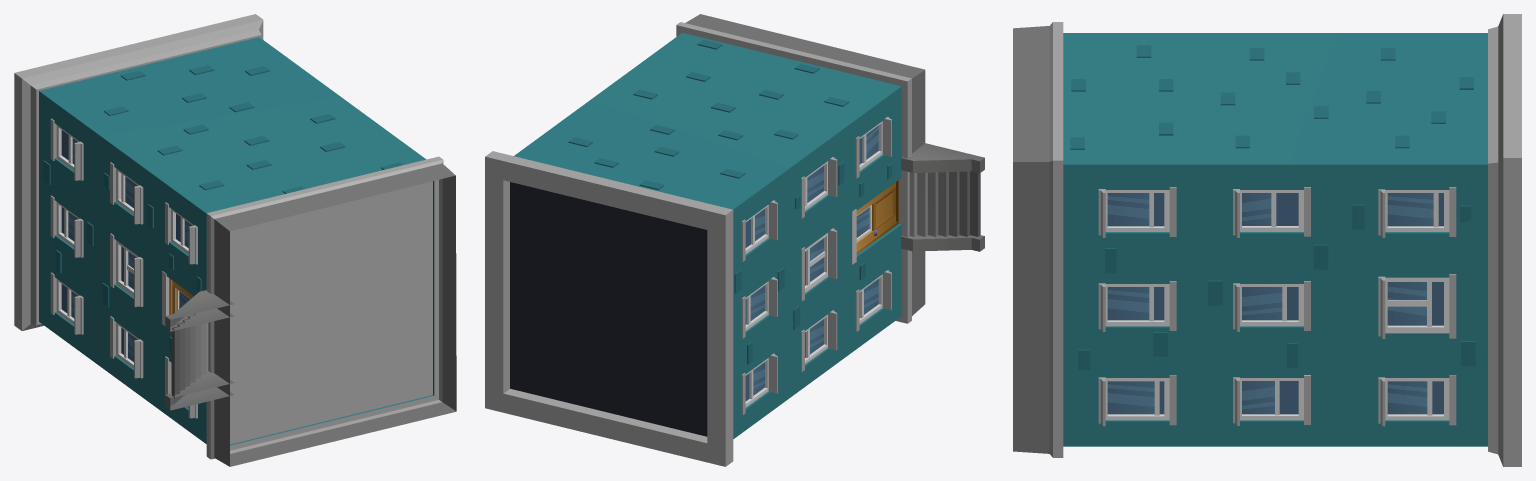
Rendered from Building_2_4_I.fbx.
3 renders of one model, left to right at view 1: azimuth 30°, elevation 25°; view 2: azimuth 150°, elevation 25°; view 3: azimuth 270°, elevation 25°, orthographic. The views are drawn at different scales.
Parts seen in each view (by area): view 1: Building_2_4_I; view 2: Building_2_4_I; view 3: Building_2_4_I.
Part boxes in pixels (x1=…): Building_2_4_I: x1=14, y1=14, x2=456, y2=466; Building_2_4_I: x1=485, y1=14, x2=984, y2=466; Building_2_4_I: x1=1013, y1=14, x2=1521, y2=466.
Bounding box in the file's own units: 754 × 620 × 926.
